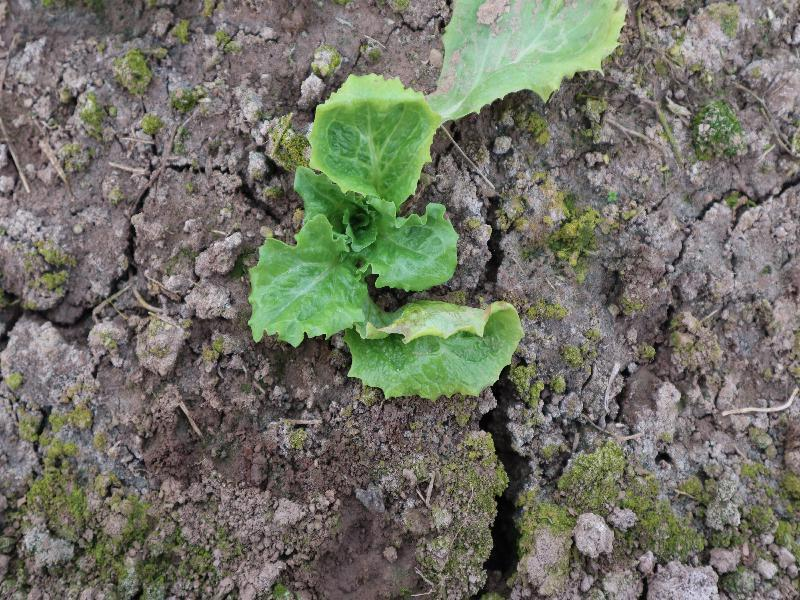lettuce: (248, 74, 525, 399)
